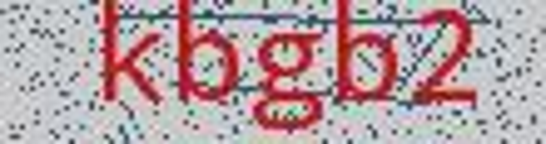2: (407, 5, 488, 118)
b: (171, 2, 247, 123), (328, 1, 402, 111)
g: (248, 21, 328, 143)
k: (84, 2, 170, 117)
